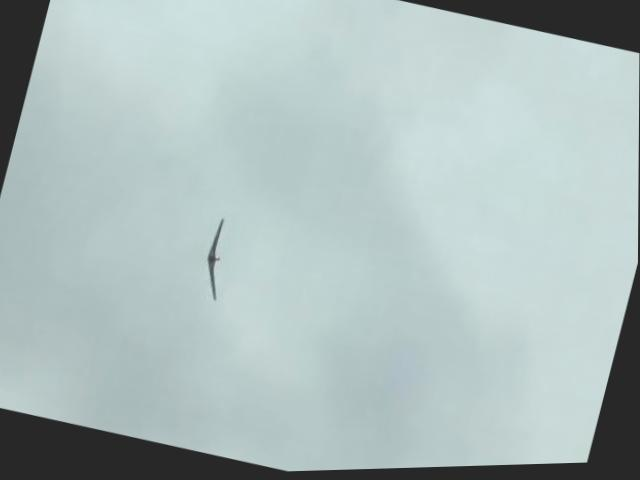flying wing: (193, 215, 240, 306)
